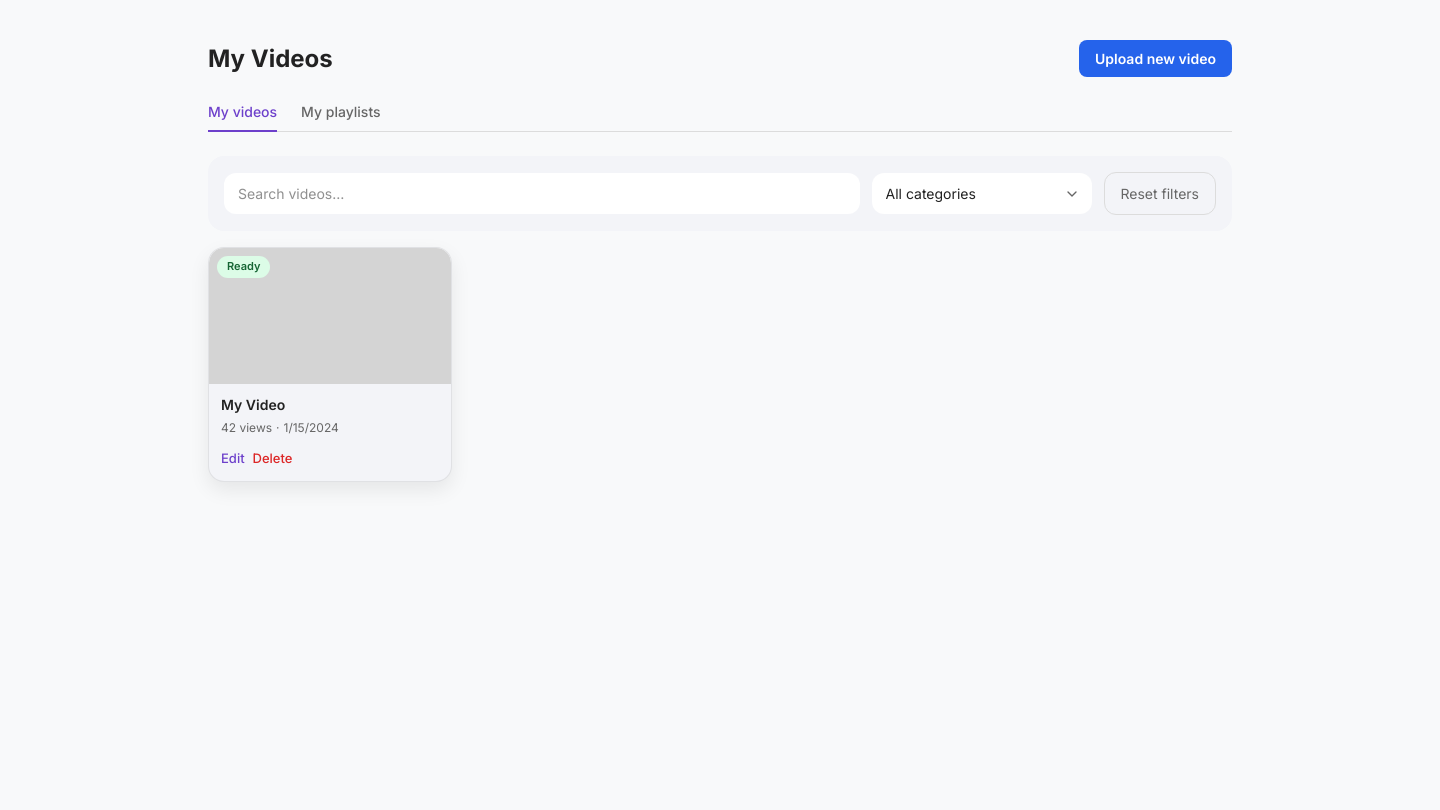
Scenario: DashboardPage › closes edit modal when Cancel is clicked
What coordinates should you click on to do the following:
click the button with aria-label "edit my video"
I would click on:
 (233, 459)
Its box is 221,449 -> 245,468.
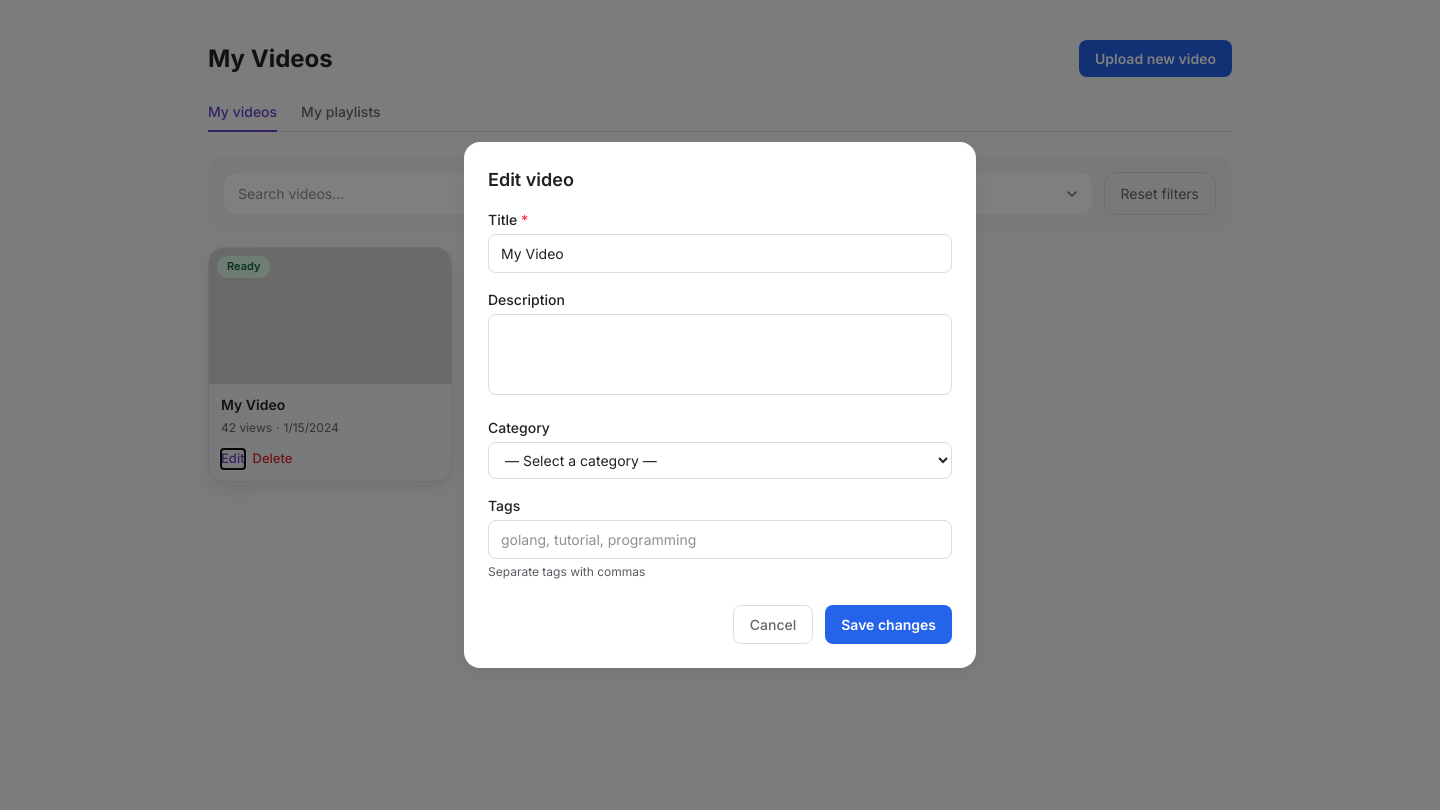
Now the dialog is shown
What coordinates should you click on to do the following:
click the button "Cancel"
I would click on:
 (773, 624)
Its box is 733,605 -> 813,644.
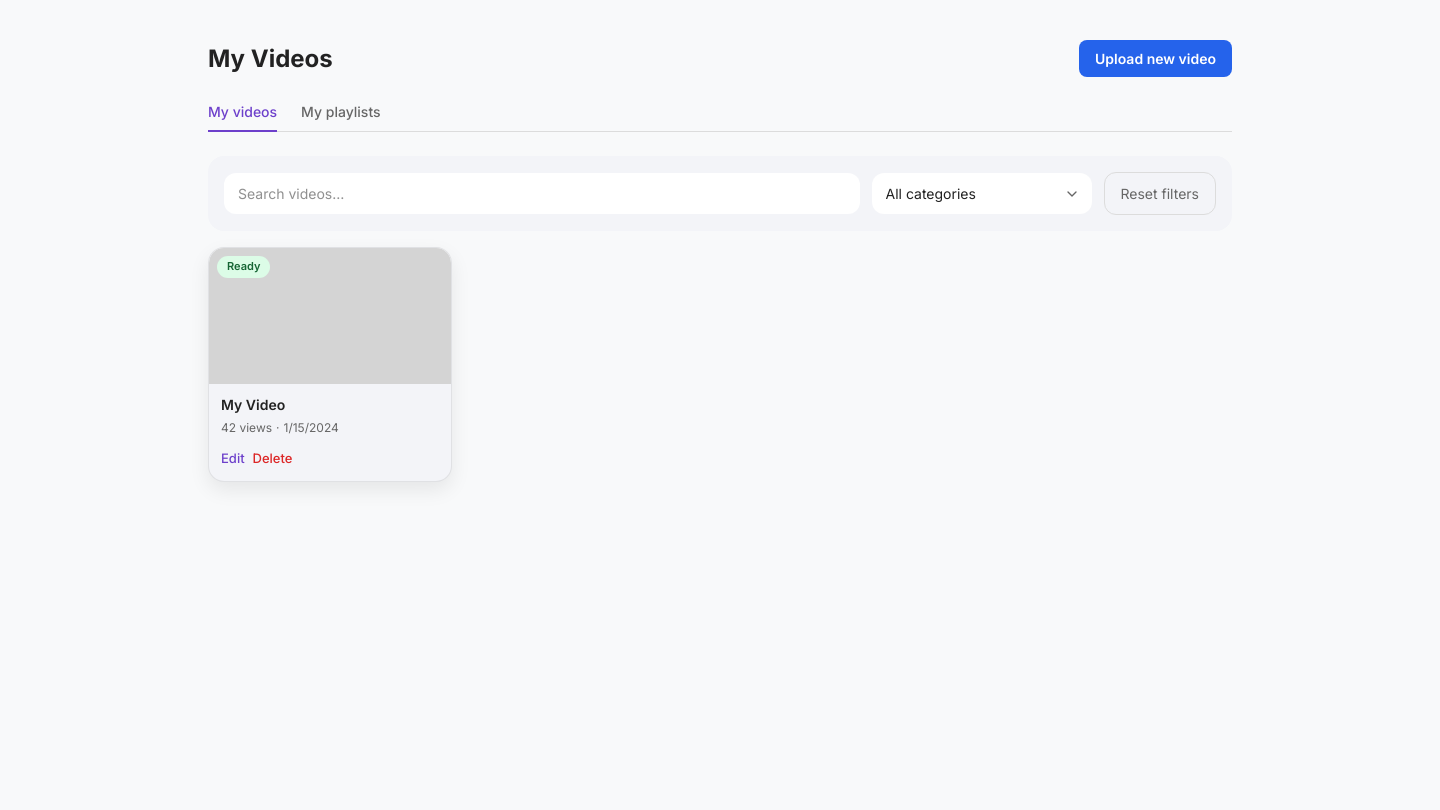
Now the dialog is gone
